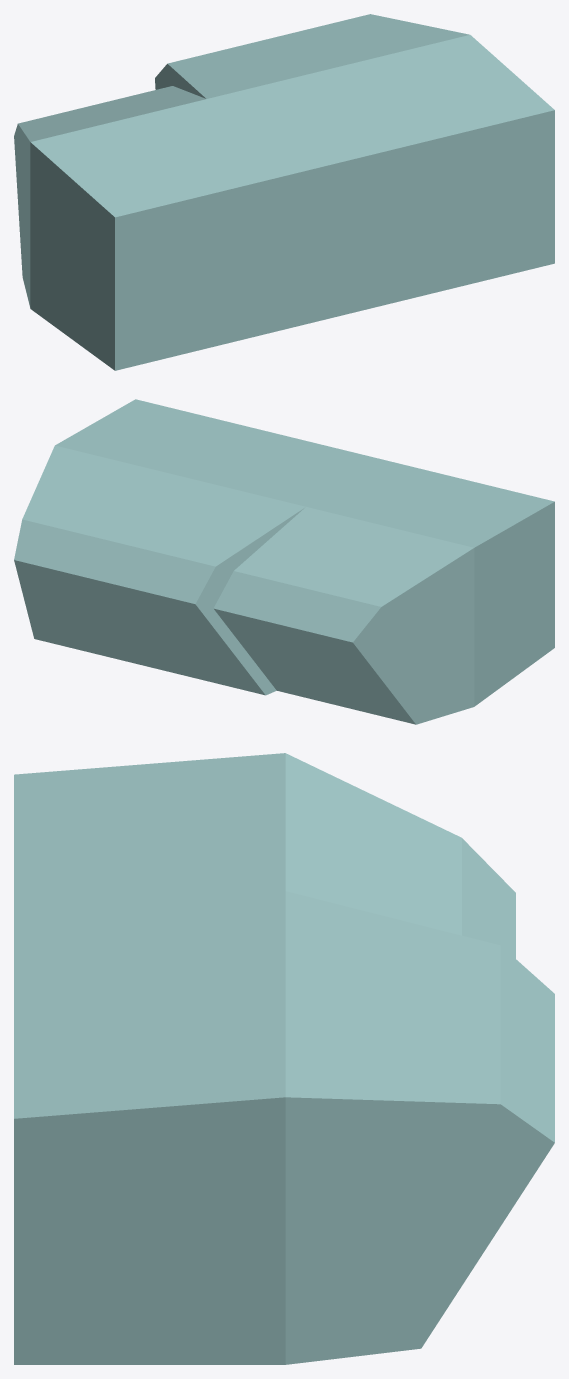
File: x_kray_obriv_blue_26_1_mirror.fbx
The picture shows the model from 3 angles, top to bottom: view 1: azimuth 30°, elevation 25°; view 2: azimuth 150°, elevation 25°; view 3: azimuth 270°, elevation 25°; orthographic projection. The views are drawn at different scales.
Parts seen in each view (by area): view 1: x_kray_obriv_blue_26_1_mirror1; view 2: x_kray_obriv_blue_26_1_mirror1; view 3: x_kray_obriv_blue_26_1_mirror1.
Boxes of the visible parts, left/top/right/bottom form: x_kray_obriv_blue_26_1_mirror1: left=14, top=14, right=554, bottom=370; x_kray_obriv_blue_26_1_mirror1: left=14, top=399, right=554, bottom=724; x_kray_obriv_blue_26_1_mirror1: left=14, top=753, right=554, bottom=1364.
Bounding box in the file's own units: 3 × 1.09 × 1.99.
